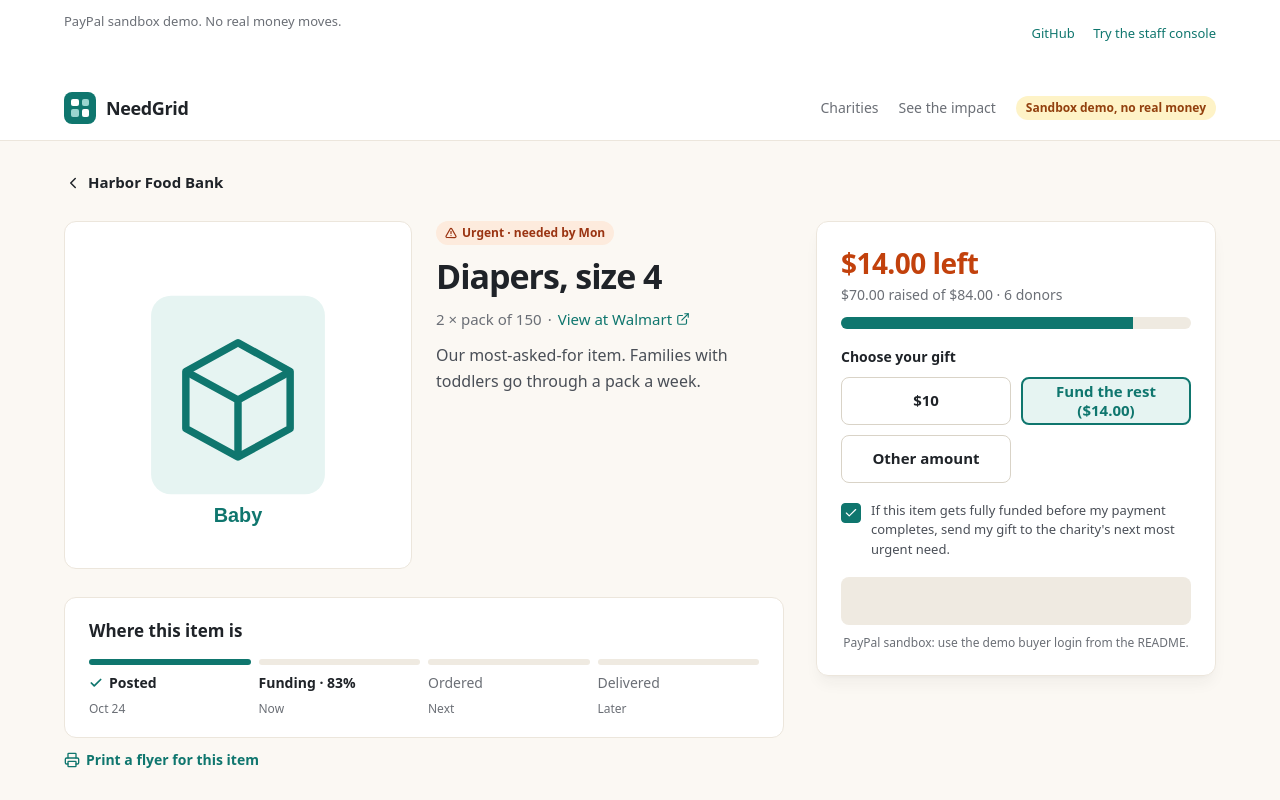
Test: live updates in mock mode › a gift on the need page moves the open tile wall's bar in the same tab, with no refetch
The width and height of the screenshot is (1280, 800).
(page scrolled)
Click the button "$10" at (926, 401), box [841,377,1011,425]
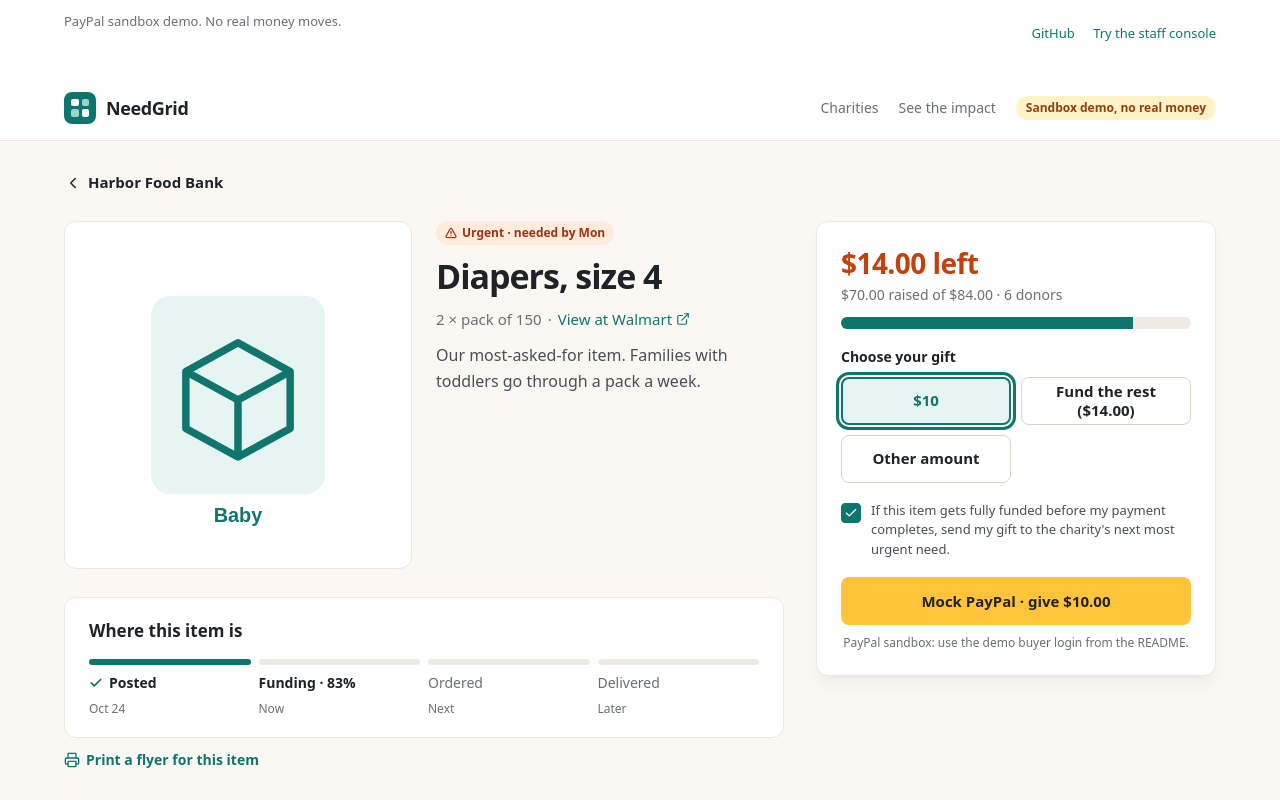
Click the button "Mock PayPal · give $10.00" at (1016, 601), box [841,577,1191,625]
(page scrolled)
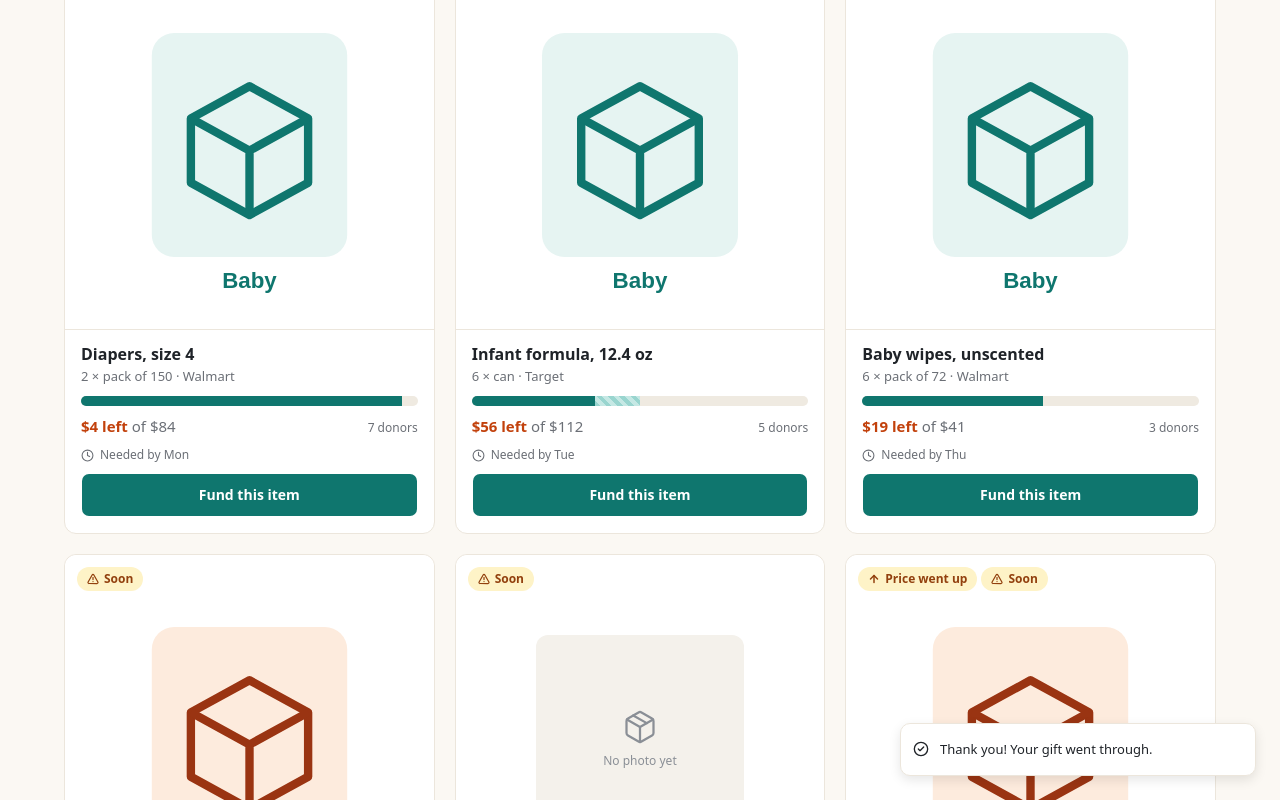
Now the text "$4 left" is shown, box [81,416,128,436]
